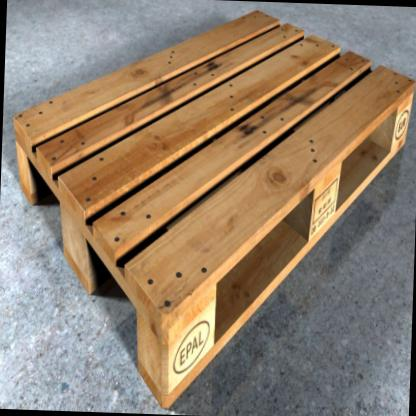BoxFace: (10, 6, 416, 413)
